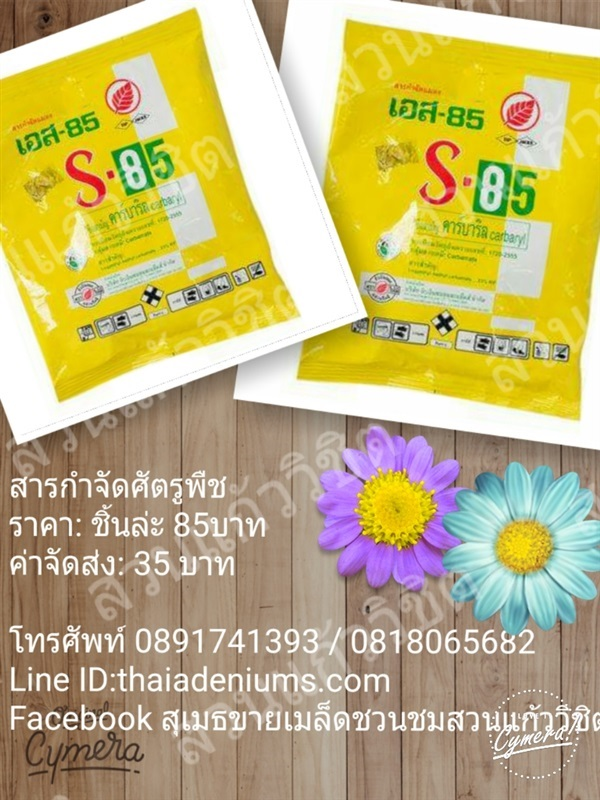Insecticide: (287, 13, 600, 443), (1, 10, 328, 412)
